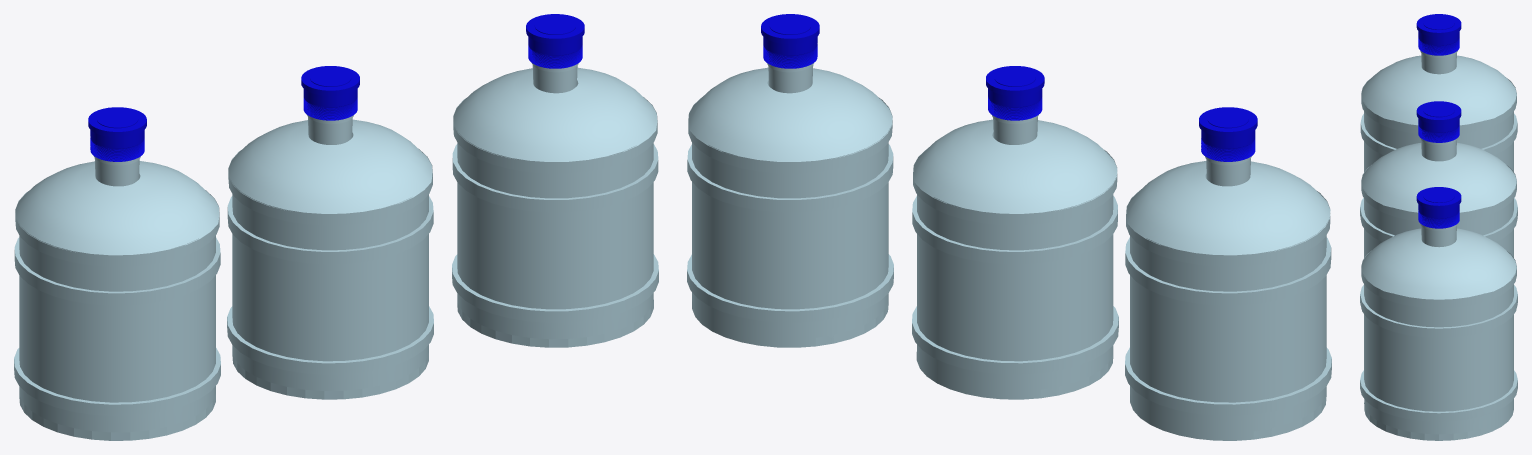
Rendered from waterbottle.fbx.
3 renders of one model, left to right at view 1: azimuth 30°, elevation 25°; view 2: azimuth 150°, elevation 25°; view 3: azimuth 270°, elevation 25°, orthographic. The views are drawn at different scales.
Parts seen in each view (by area): view 1: Sphere.002, Sphere.004, Sphere.001, Cylinder, Cylinder.001, Cylinder.002; view 2: Sphere.002, Sphere.001, Sphere.004, Cylinder.001, Cylinder.002, Cylinder; view 3: Sphere.002, Sphere.004, Sphere.001, Cylinder.002, Cylinder, Cylinder.001.
Boxes of the visible parts, left/top/right/bottom form: Sphere.002: left=452, top=63, right=658, bottom=347; Sphere.004: left=14, top=156, right=220, bottom=440; Sphere.001: left=227, top=115, right=433, bottom=399; Cylinder: left=301, top=66, right=359, bottom=120; Cylinder.001: left=526, top=14, right=584, bottom=68; Cylinder.002: left=88, top=107, right=146, bottom=161; Sphere.002: left=687, top=63, right=893, bottom=347; Sphere.001: left=912, top=115, right=1118, bottom=399; Sphere.004: left=1125, top=156, right=1331, bottom=440; Cylinder.001: left=761, top=14, right=819, bottom=68; Cylinder.002: left=1199, top=107, right=1257, bottom=161; Cylinder: left=986, top=66, right=1044, bottom=120; Sphere.002: left=1360, top=223, right=1517, bottom=440; Sphere.004: left=1360, top=50, right=1517, bottom=216; Sphere.001: left=1360, top=138, right=1517, bottom=304; Cylinder.002: left=1416, top=14, right=1461, bottom=55; Cylinder: left=1416, top=101, right=1461, bottom=142; Cylinder.001: left=1416, top=187, right=1461, bottom=228.
Size of the model in its own units: 724 by 344 by 211.
